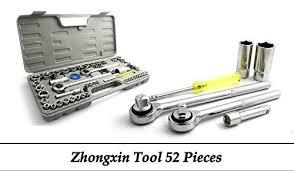wrench: (127, 79, 271, 125), (167, 87, 282, 132)
